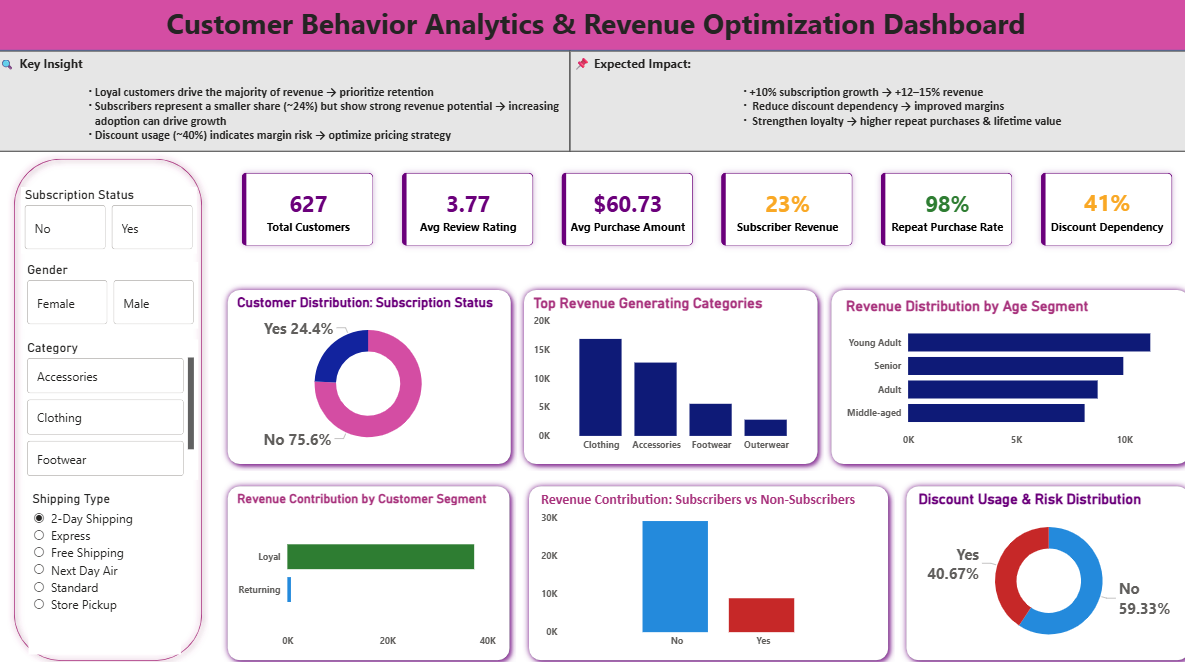

The page's visual inventory and layout, read from the dashboard file:
{"tool":"powerbi","page":{"name":"Page 1","canvas":[1500,820],"ordinal":0},"visuals":[{"type":"cardVisual","fields":{"Data":["customer_behavior customers.Number of Customers","customer_behavior customers.Average Purchase Amount","customer_behavior customers.Average Review Rating"]},"box":[243.2,78.4,1214.9,189.2],"z":0},{"type":"shape","box":[263.5,509.5,602.7,252.7],"z":0,"group":"g1"},{"type":"shape","box":[0,0,1458.1,78.4],"z":1000},{"type":"shape","box":[877,509.5,581.1,252.7],"z":1000,"group":"g1"},{"type":"textbox","box":[0,10.8,1458.1,54.1],"z":2000},{"type":"shape","box":[267.6,250,394.6,252.7],"z":3000},{"type":"donutChart","title":"% of Customers By Subcription Status","fields":{"Y":["CountNonNull(customer_behavior customers.customer_id)"],"Category":["customer_behavior customers.subscription_status"]},"box":[291.9,267.6,355.4,216.2],"z":4000},{"type":"shape","box":[1056.8,250,394.6,252.7],"z":5000},{"type":"shape","box":[662.2,251.4,394.6,252.7],"z":6000},{"type":"clusteredColumnChart","title":"Revenue By Category","fields":{"Y":["Sum(customer_behavior customers.purchase_amount)"],"Category":["customer_behavior customers.category"]},"box":[675.7,267.6,367.6,218.9],"z":7000},{"type":"clusteredColumnChart","title":"Sales By Category","fields":{"Y":["CountNonNull(customer_behavior customers.customer_id)"],"Category":["customer_behavior customers.category"]},"box":[1070.3,270.3,367.6,216.2],"z":8000},{"type":"shape","box":[0,78.4,267.6,683.8],"z":9000},{"type":"advancedSlicerVisual","fields":{"Values":["customer_behavior customers.subscription_status"]},"box":[16.2,128.4,233.8,89.2],"z":10000},{"type":"advancedSlicerVisual","fields":{"Values":["customer_behavior customers.gender"]},"box":[21.6,223,233.8,89.2],"z":11000},{"type":"advancedSlicerVisual","fields":{"Values":["customer_behavior customers.category"]},"box":[20.3,316.2,233.8,185.1],"z":12000},{"type":"listSlicer","fields":{"Values":["customer_behavior customers.shipping_type"]},"box":[27,516.2,213.5,216.2],"z":13000},{"type":"group","id":"g1","title":"Group 1","box":[263.5,509.5,1194.6,252.7],"z":14000},{"type":"clusteredBarChart","title":"Sales By Age Group","fields":{"Y":["CountNonNull(customer_behavior customers.customer_id)"],"Category":["customer_behavior customers.age_group"]},"box":[892.6,529.3,551.4,214.9],"z":14000,"group":"g2"},{"type":"group","id":"g2","title":"Group 2","box":[278.7,528,1165.3,216.2],"z":15000},{"type":"clusteredBarChart","title":"Revenue By Age Group","fields":{"Y":["Sum(customer_behavior customers.purchase_amount)"],"Category":["customer_behavior customers.age_group"]},"box":[278.7,528,571.6,214.9],"z":15000,"group":"g2"}]}

Visuals, with their boxes in screenshot pixels (x1, y1, x2, y2), scaled from the page's 1500x820 canvas onto the 1185x662 screenshot:
cardVisual - customer_behavior customers.Number of Customers x customer_behavior customers.Average Purchase Amount: <region>192, 63, 1152, 216</region>
shape: <region>208, 411, 684, 615</region>
shape: <region>0, 0, 1152, 63</region>
shape: <region>693, 411, 1152, 615</region>
textbox: <region>0, 9, 1152, 52</region>
shape: <region>211, 202, 523, 406</region>
"% of Customers By Subcription Status" donutChart: <region>231, 216, 511, 391</region>
shape: <region>835, 202, 1147, 406</region>
shape: <region>523, 203, 835, 407</region>
"Revenue By Category" clusteredColumnChart: <region>534, 216, 824, 393</region>
"Sales By Category" clusteredColumnChart: <region>846, 218, 1136, 393</region>
shape: <region>0, 63, 211, 615</region>
advancedSlicerVisual - customer_behavior customers.subscription_status: <region>13, 104, 198, 176</region>
advancedSlicerVisual - customer_behavior customers.gender: <region>17, 180, 202, 252</region>
advancedSlicerVisual - customer_behavior customers.category: <region>16, 255, 201, 405</region>
listSlicer - customer_behavior customers.shipping_type: <region>21, 417, 190, 591</region>
"Group 1" group: <region>208, 411, 1152, 615</region>
"Sales By Age Group" clusteredBarChart: <region>705, 427, 1141, 601</region>
"Group 2" group: <region>220, 426, 1141, 601</region>
"Revenue By Age Group" clusteredBarChart: <region>220, 426, 672, 600</region>
